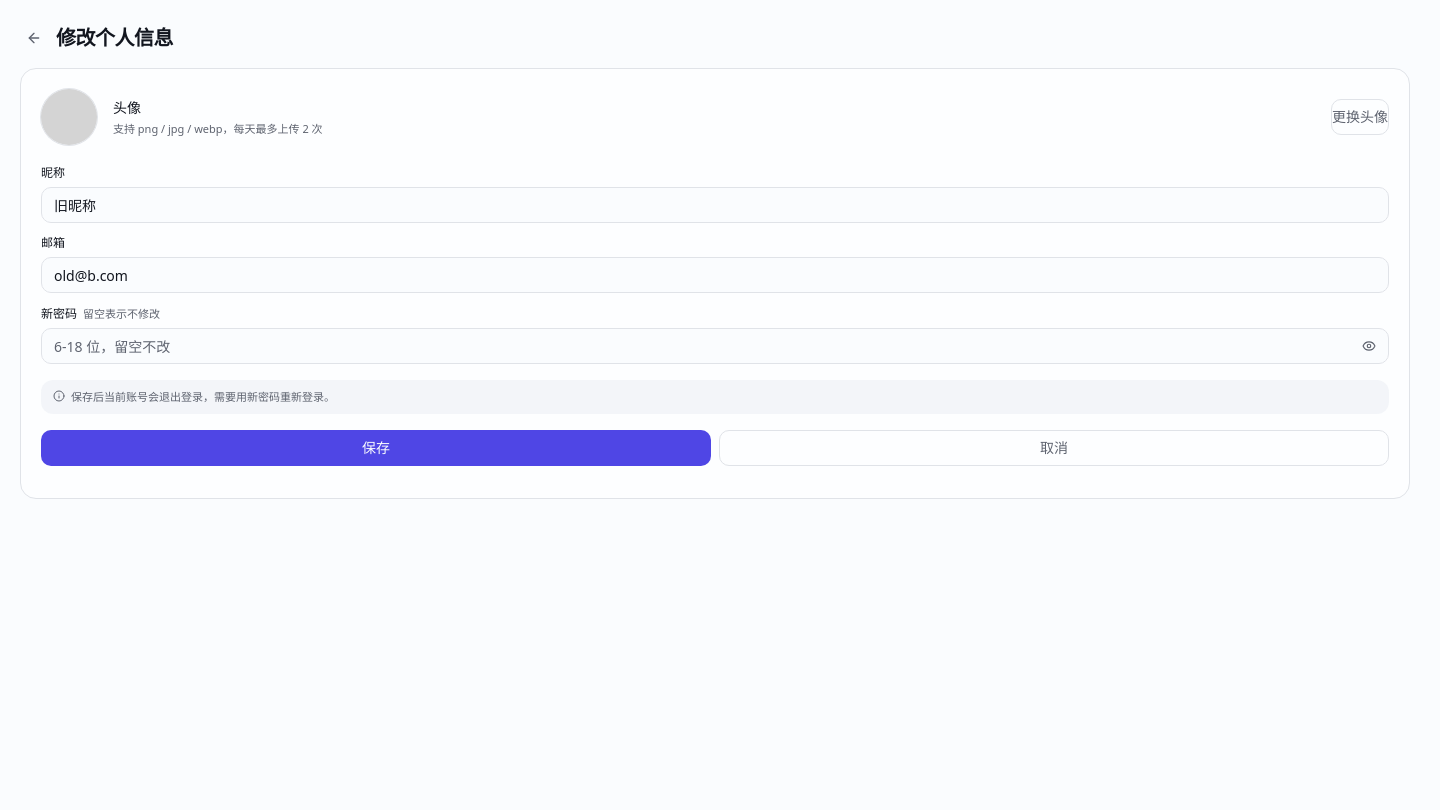
Test: 修改个人信息页 › 改密码时补上确认校验；留空 = 不改密码，确认框不出现
Type "newpass1" into the password field with placeholder "6-18 位，留空不改" at (715, 346), box [41,328,1389,364]
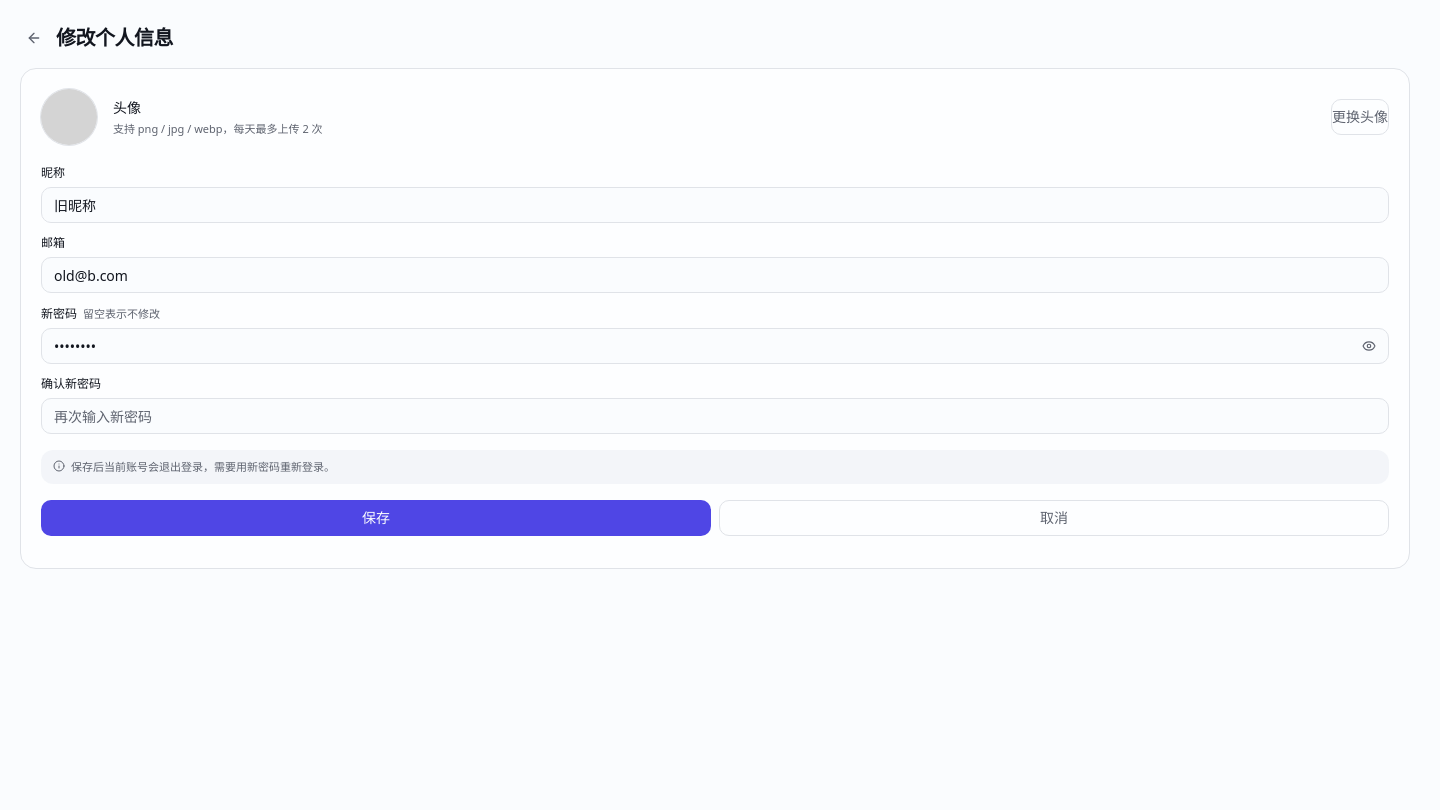
Type "different" into the password field with placeholder "再次输入新密码" at (715, 416), box [41,398,1389,434]
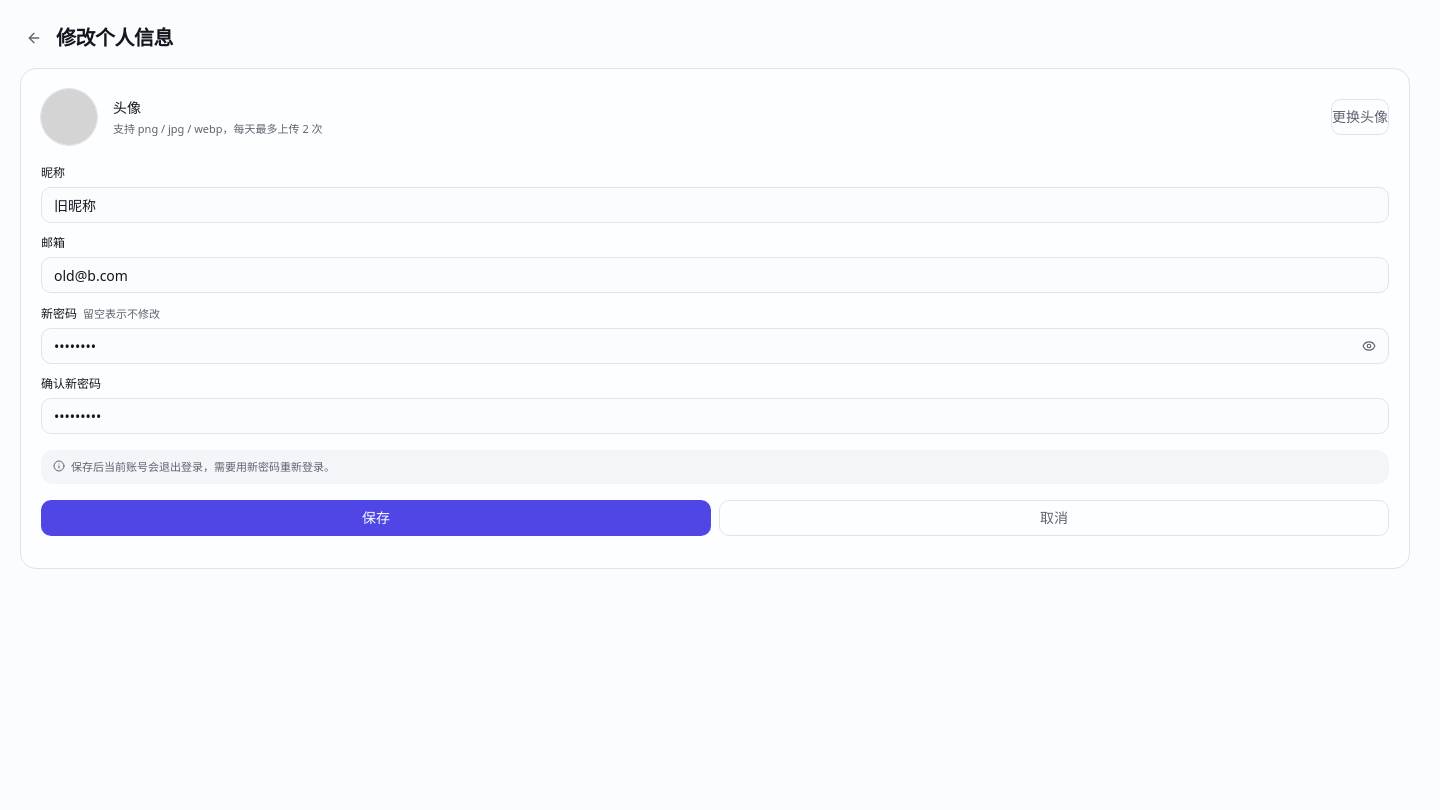
Click the button "保存" at (376, 518), box [41,500,711,536]
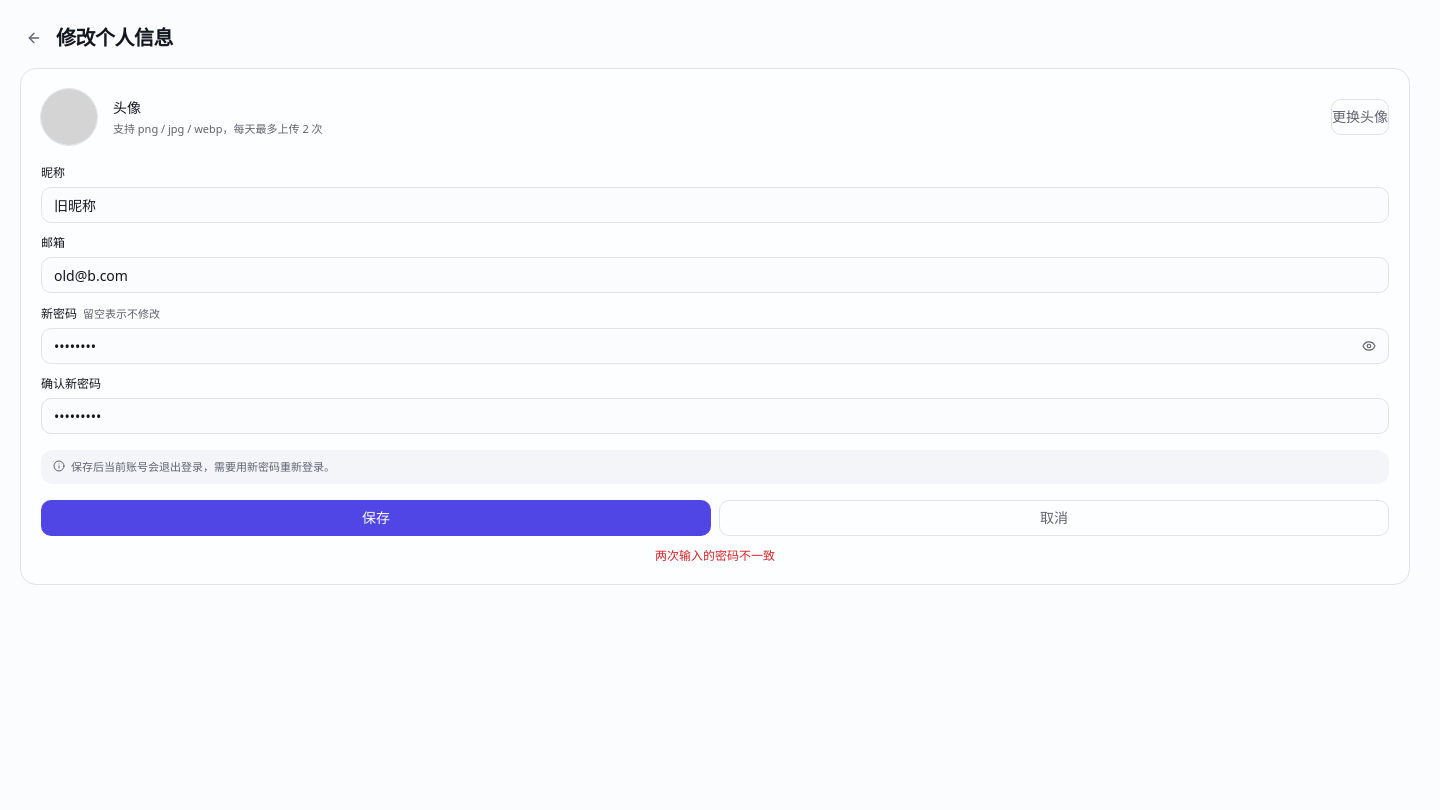
Expected: the text "两次输入的密码不一致" is shown, [655,547,775,564]
